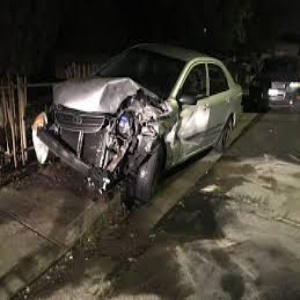bonnet: (48, 94, 173, 138)
